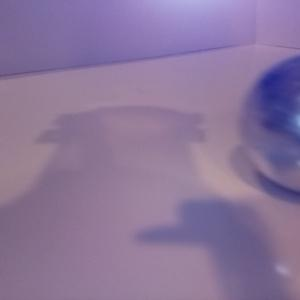alive_ball: (239, 54, 300, 192)
